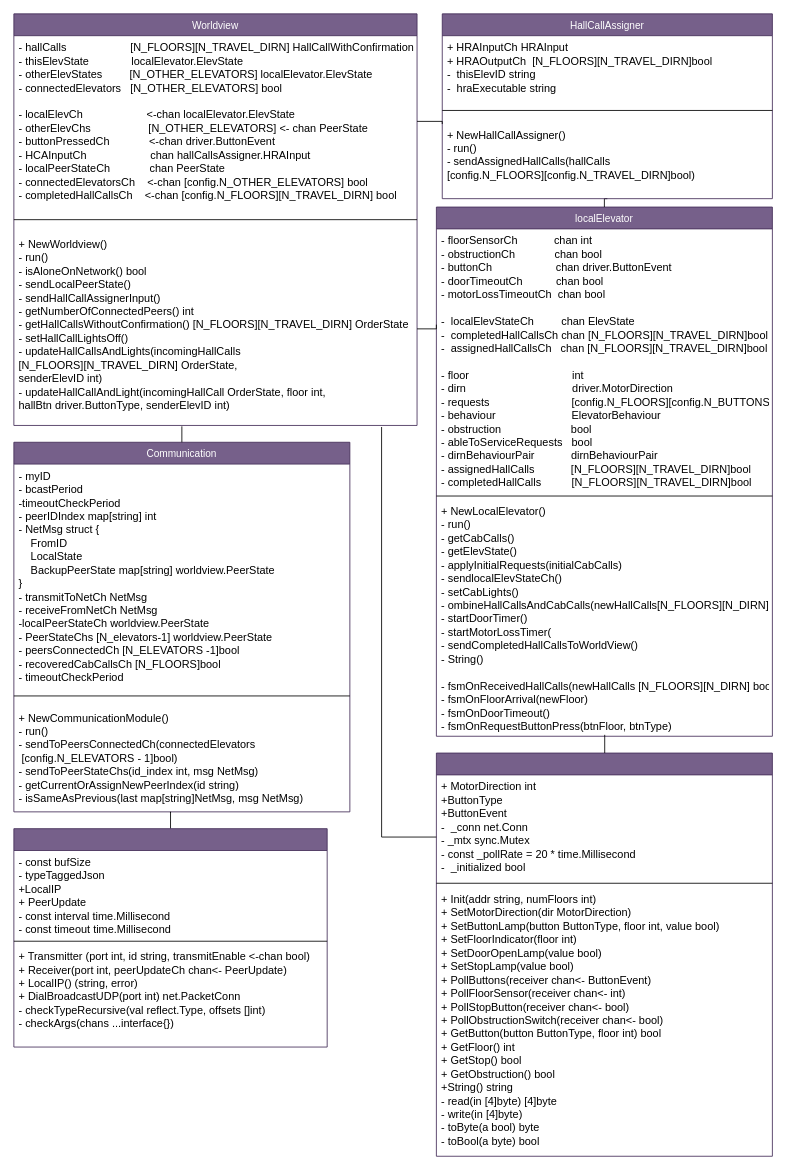
This 810x1170 diagram has some shape labels left out. Each missing label, with the box of its shape:
Driver (I/O): (436, 752, 772, 1156)
Network: (13, 828, 327, 1047)
